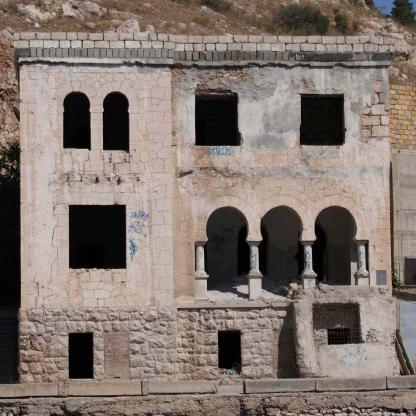Balcony: (195, 268, 368, 303)
Building Outline: (13, 32, 401, 388)
Dont: (0, 375, 416, 416)
Door Hole: (69, 333, 93, 379), (218, 330, 241, 376)
Facade: (21, 36, 388, 385)
Floor: (21, 185, 388, 302)
Floor Slab: (21, 302, 388, 308), (21, 179, 388, 185)
Ground Floor: (21, 307, 388, 385)
Pillar: (246, 242, 264, 303), (195, 242, 209, 304), (300, 241, 317, 290), (353, 240, 369, 286)
Top Floor: (21, 63, 388, 180)
Window: (311, 301, 364, 345)
Window Hole: (258, 205, 304, 303), (204, 206, 250, 303), (69, 205, 126, 269), (312, 206, 357, 287), (195, 94, 238, 146), (301, 94, 344, 146), (102, 91, 130, 151), (63, 91, 91, 150)
